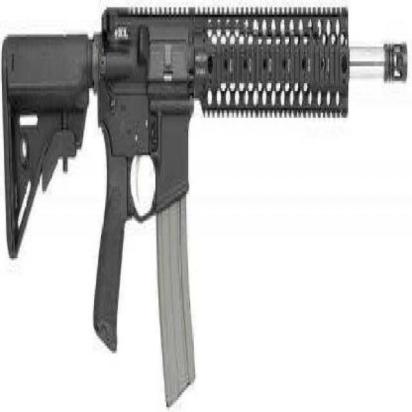Gun: (0, 0, 411, 410)
